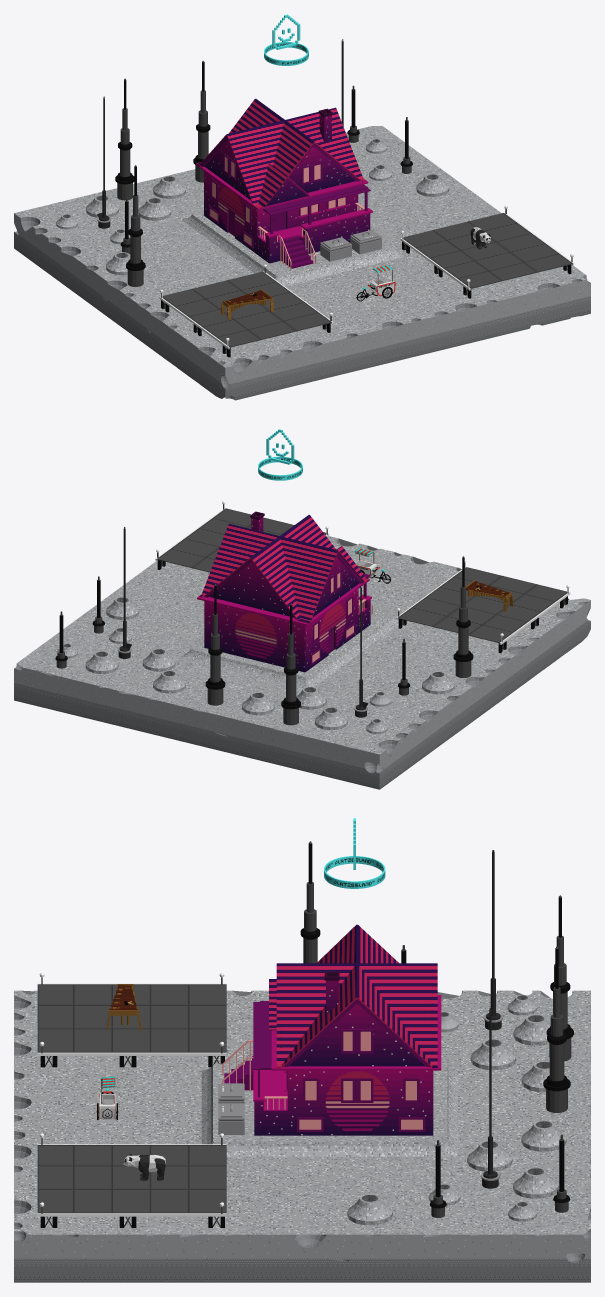
The picture shows the model from 3 angles, top to bottom: view 1: azimuth 30°, elevation 25°; view 2: azimuth 150°, elevation 25°; view 3: azimuth 270°, elevation 25°; orthographic projection. The views are drawn at different scales.
Visible parts, largest first — view 1: Cube.027, Cube.156, Cube.026, Cube.025, Cube.028, Cylinder.021, Cylinder.020, Cylinder.017, TYPE_PREMIUM, OBJRANDOM_MARIMBA, VEHICLES_SNOWBAL_BIKE, Cube.029 (+4 smaller); view 2: Cube.027, Cube.156, Cube.025, Cube.028, Cube.026, Cylinder.017, Cylinder.021, Cylinder.020, TYPE_PREMIUM, OBJRANDOM_MARIMBA, Cylinder.030, Cylinder.029 (+8 smaller); view 3: Cube.027, Cube.156, Cube.026, Cube.025, Cube.028, Cylinder.017, Cylinder.020, Cylinder.021, TYPE_PREMIUM, Cylinder.033, Cylinder.031, Cylinder.026 (+12 smaller).
Part boxes in pixels (bbox=[...]): Cube.027: bbox=[14, 126, 590, 400]; Cube.156: bbox=[196, 98, 372, 269]; Cube.026: bbox=[400, 205, 574, 298]; Cube.025: bbox=[159, 264, 333, 357]; Cube.028: bbox=[182, 211, 403, 286]; Cylinder.021: bbox=[126, 165, 145, 286]; Cylinder.020: bbox=[115, 78, 134, 200]; Cylinder.017: bbox=[193, 60, 210, 182]; TYPE_PREMIUM: bbox=[264, 14, 308, 65]; OBJRANDOM_MARIMBA: bbox=[221, 289, 274, 319]; VEHICLES_SNOWBAL_BIKE: bbox=[356, 265, 395, 301]; Cube.029: bbox=[320, 237, 351, 261]; Cube.027: bbox=[14, 536, 590, 789]; Cube.156: bbox=[197, 511, 372, 672]; Cube.025: bbox=[396, 560, 570, 653]; Cube.028: bbox=[181, 610, 398, 688]; Cube.026: bbox=[155, 501, 329, 572]; Cylinder.017: bbox=[205, 583, 225, 705]; Cylinder.021: bbox=[453, 556, 473, 677]; Cylinder.020: bbox=[281, 603, 300, 725]; TYPE_PREMIUM: bbox=[258, 429, 302, 480]; OBJRANDOM_MARIMBA: bbox=[466, 580, 513, 611]; Cylinder.030: bbox=[142, 648, 175, 671]; Cylinder.029: bbox=[153, 670, 185, 693]; Cube.027: bbox=[14, 990, 590, 1282]; Cube.156: bbox=[222, 924, 441, 1135]; Cube.026: bbox=[37, 1133, 226, 1227]; Cube.025: bbox=[37, 973, 226, 1067]; Cube.028: bbox=[201, 1063, 457, 1156]; Cylinder.017: bbox=[543, 946, 570, 1112]; Cylinder.020: bbox=[546, 895, 573, 1061]; Cylinder.021: bbox=[300, 841, 320, 963]; TYPE_PREMIUM: bbox=[324, 818, 385, 888]; Cylinder.033: bbox=[347, 1194, 392, 1225]; Cylinder.031: bbox=[513, 1167, 558, 1198]; Cylinder.026: bbox=[470, 1038, 516, 1069].
Size of the model in its own units: 4000 by 2719 by 4000.
Materials: 35 (7 with a texture image).
